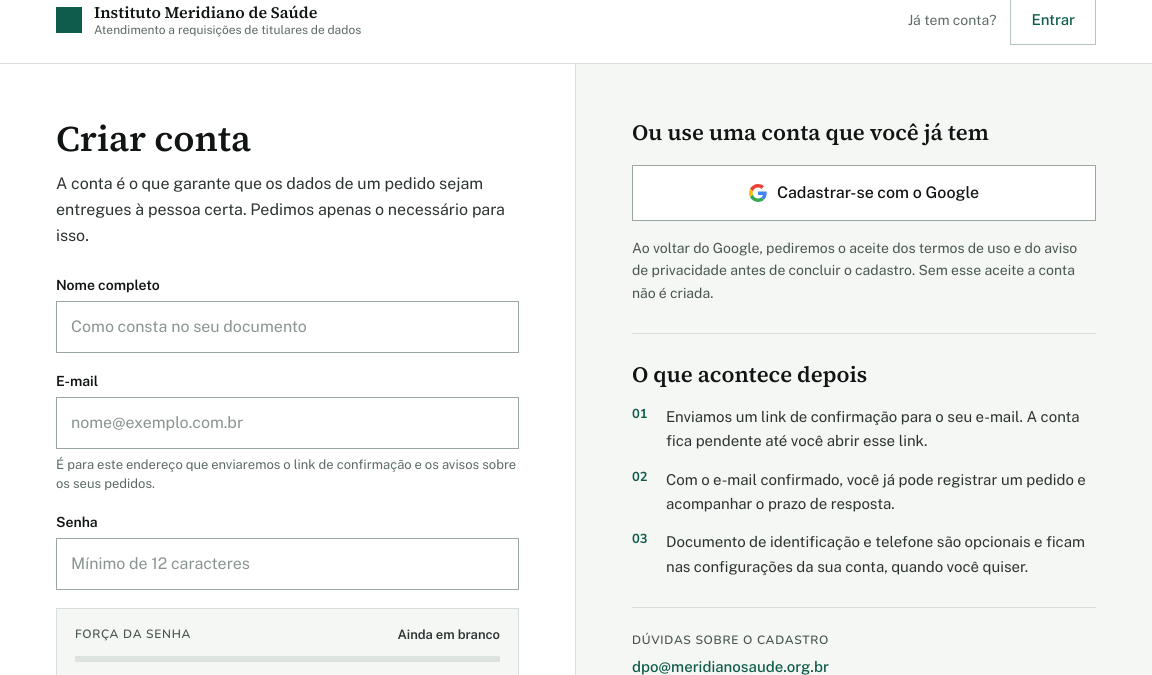
Test: Registro de conta › avisa em tempo real quando a confirmação de senha diverge
The width and height of the screenshot is (1152, 675).
In the password field with placeholder "Mínimo de 12 caracteres": [288, 564] box [56,538,519,590], type "SenhaSegura!123"
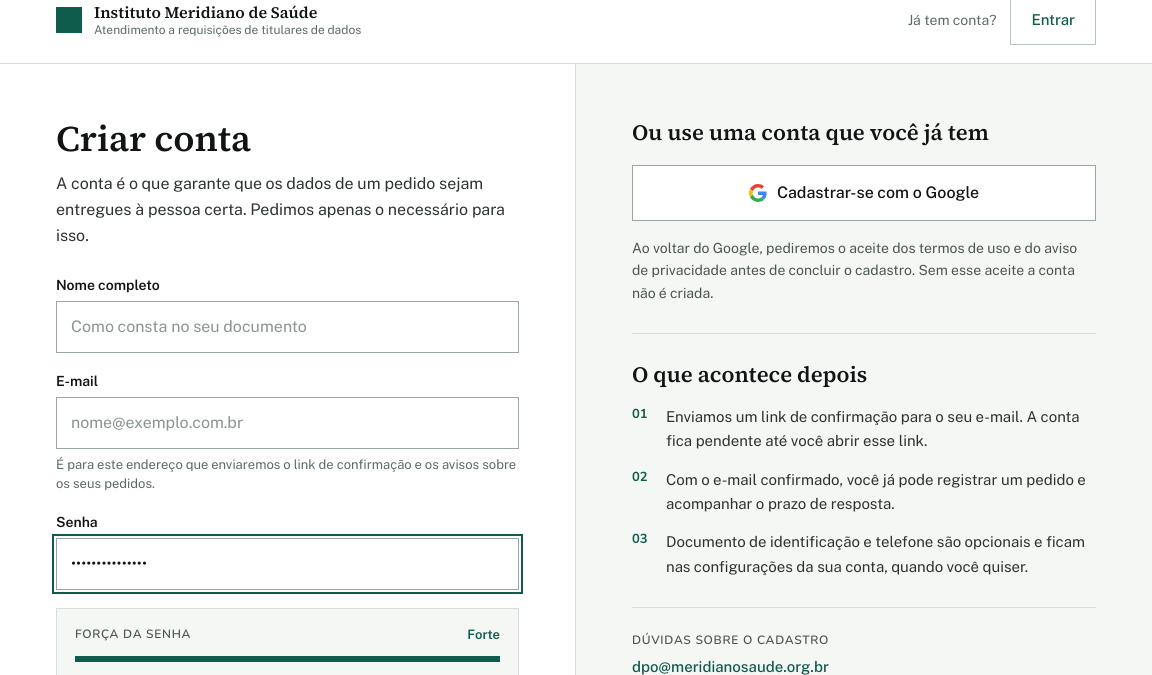
Scroll
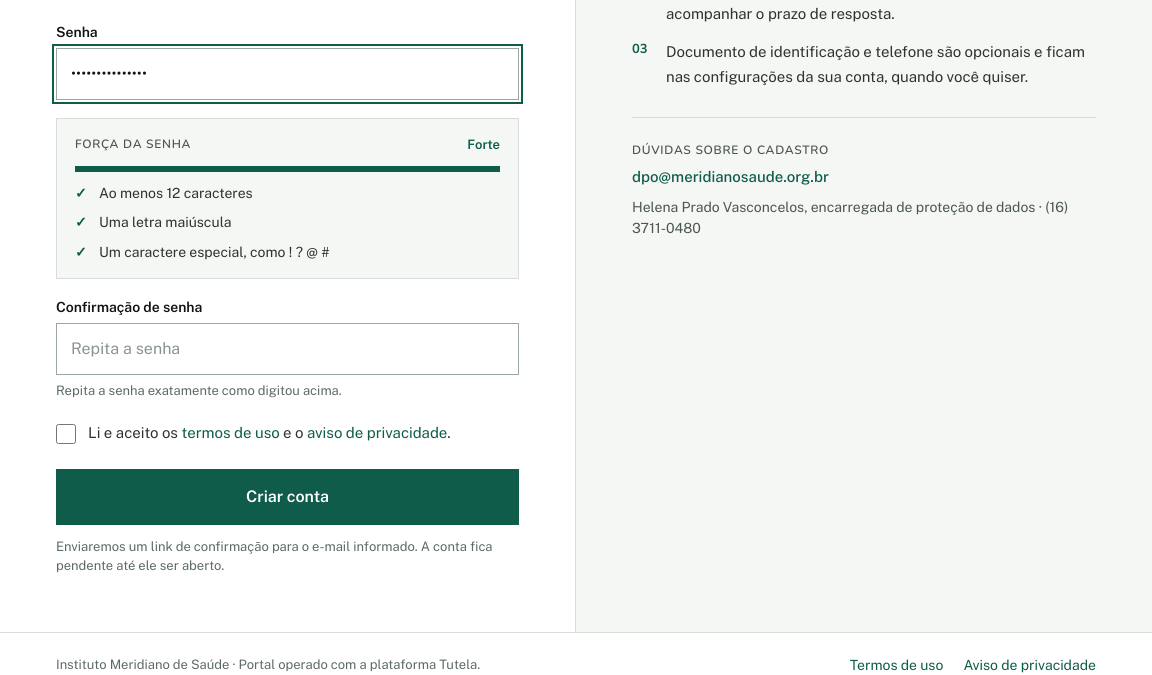
In the password field with placeholder "Repita a senha": [288, 349] box [56,323,519,375], type "OutraSenha!123"
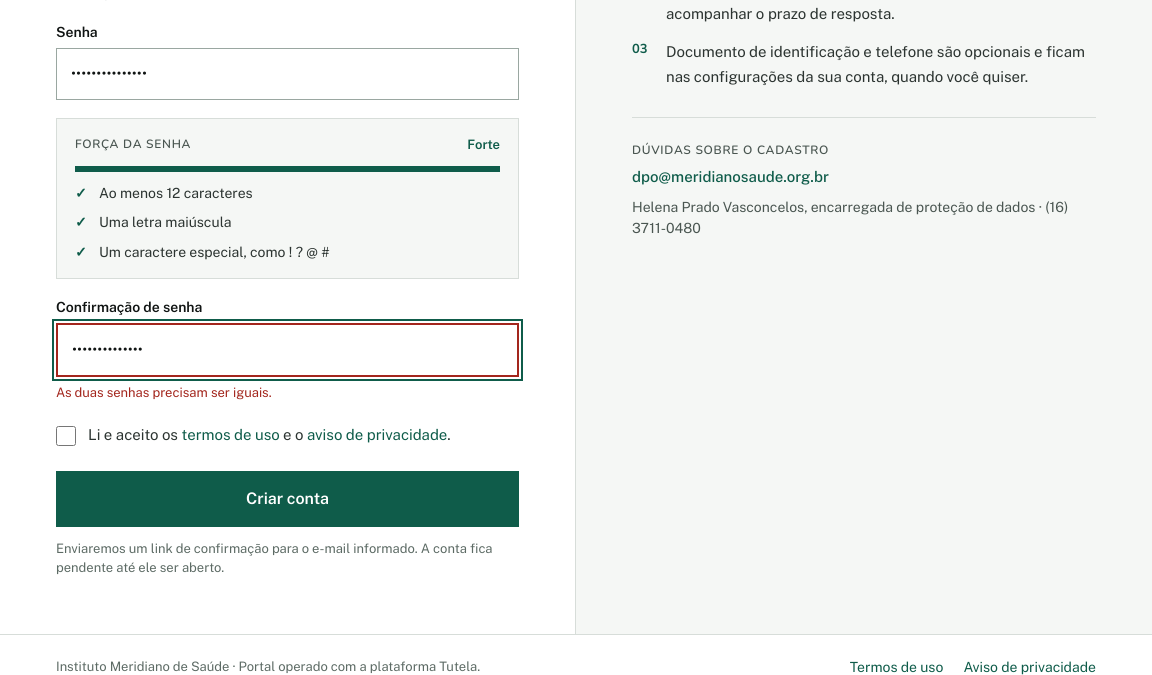
Check: the text "As duas senhas precisam ser iguais." is shown, box [56,385,272,400]
Clear the password field with placeholder "Repita a senha": [288, 350] box [56,323,519,377]
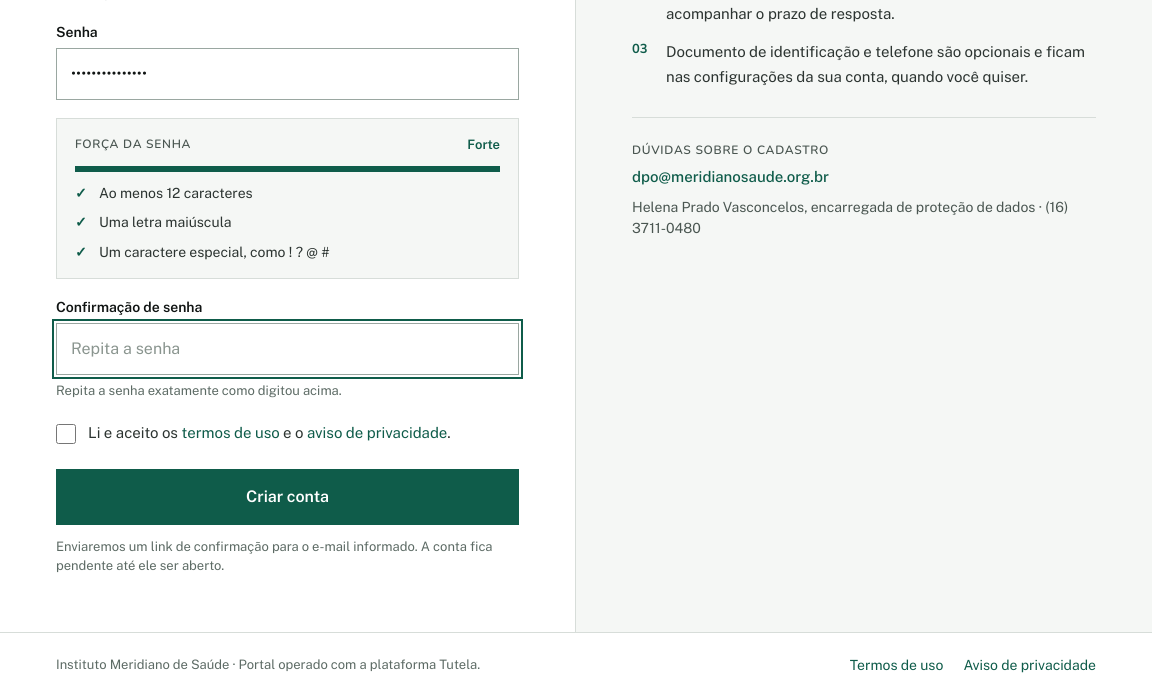
In the password field with placeholder "Repita a senha": [288, 349] box [56,323,519,375], type "SenhaSegura!123"
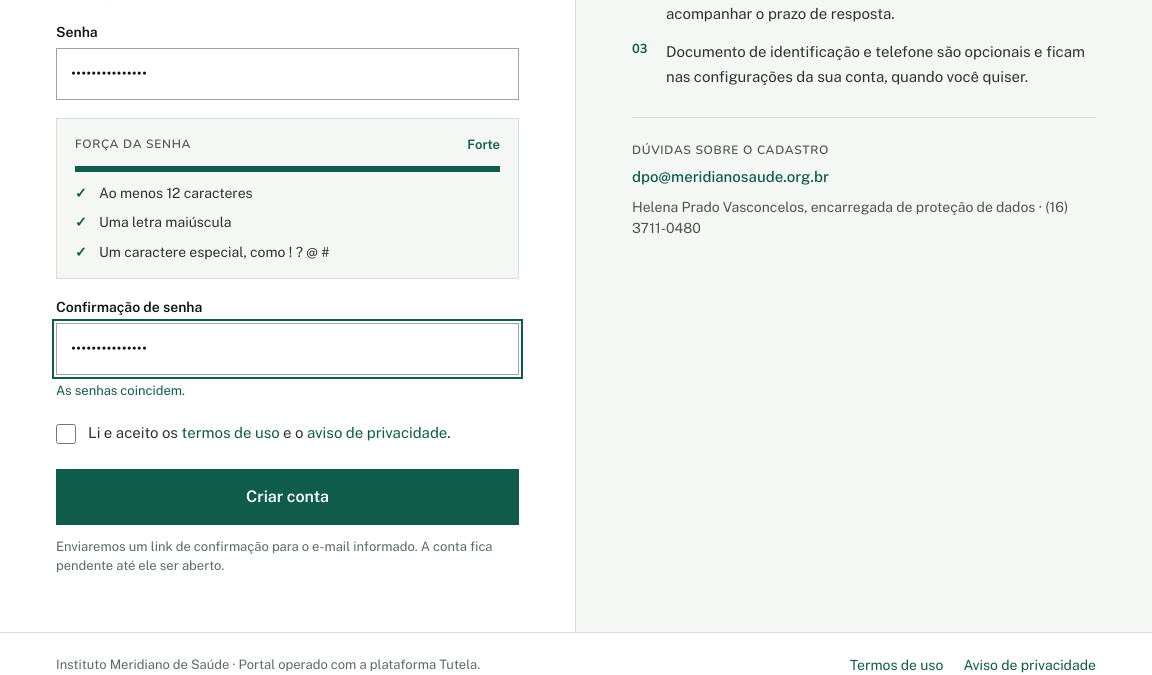
Check: the text "As senhas coincidem." is shown, box [56,383,185,398]
